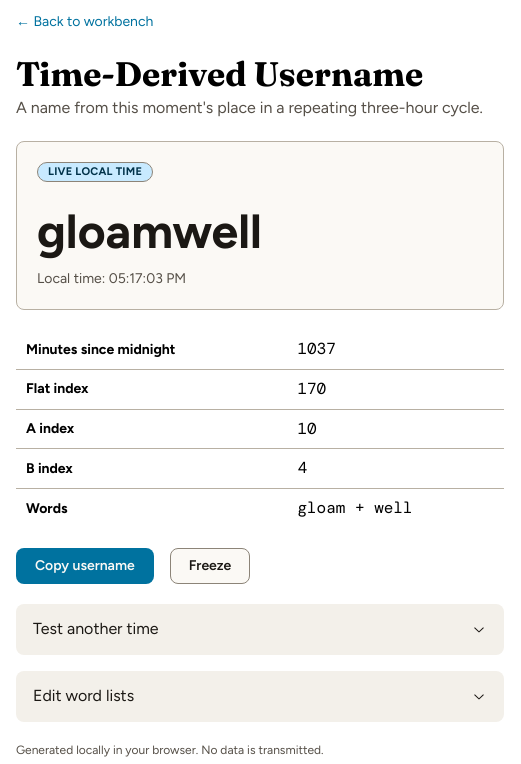
Test: UsernameSeedsPage › freezes and resumes
This screenshot has width=521, height=764.
Click the button "Freeze" at coordinates (210, 566), box [170,548,250,584]
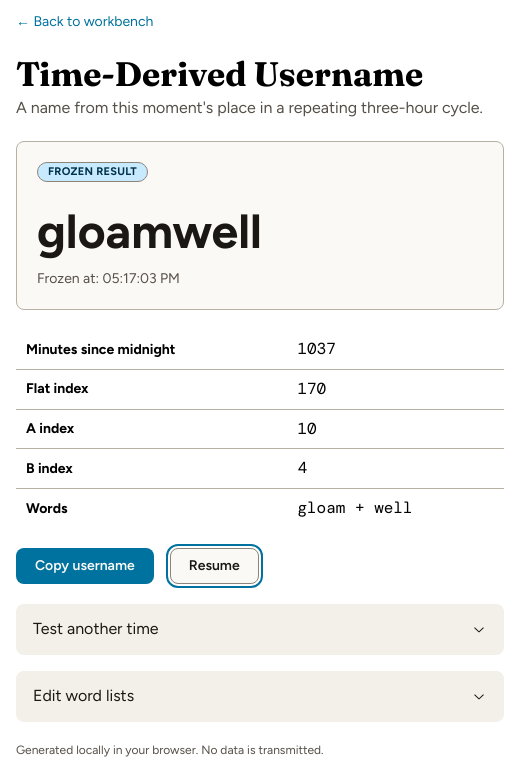
expect the text "Frozen result" is shown: met, box [48,163,137,181]
expect the button "Resume" is shown: met
Click the button "Resume" at coordinates (214, 566), box [170,548,259,584]
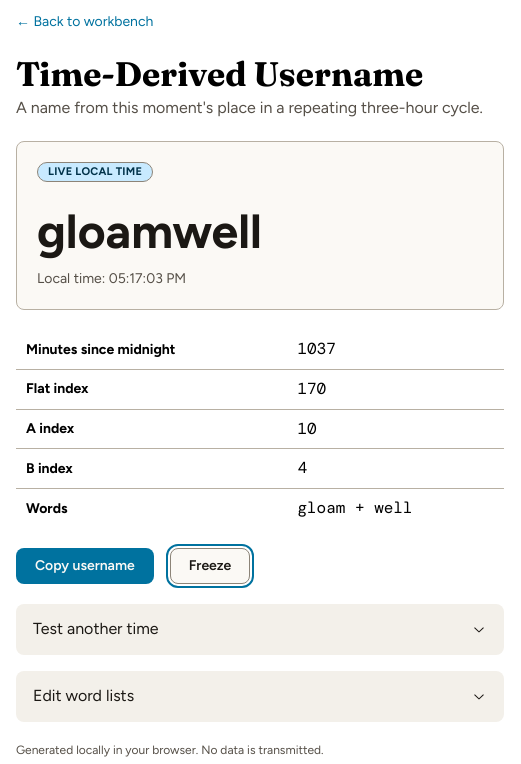
expect the text "Live local time" is shown: met, box [48,163,142,181]
